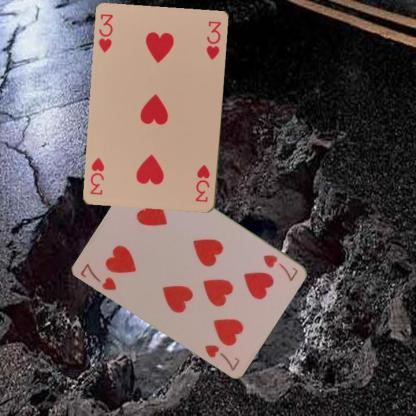3h: (96, 12, 115, 54), (193, 162, 211, 204)
7h: (78, 260, 118, 292), (260, 252, 300, 282)
